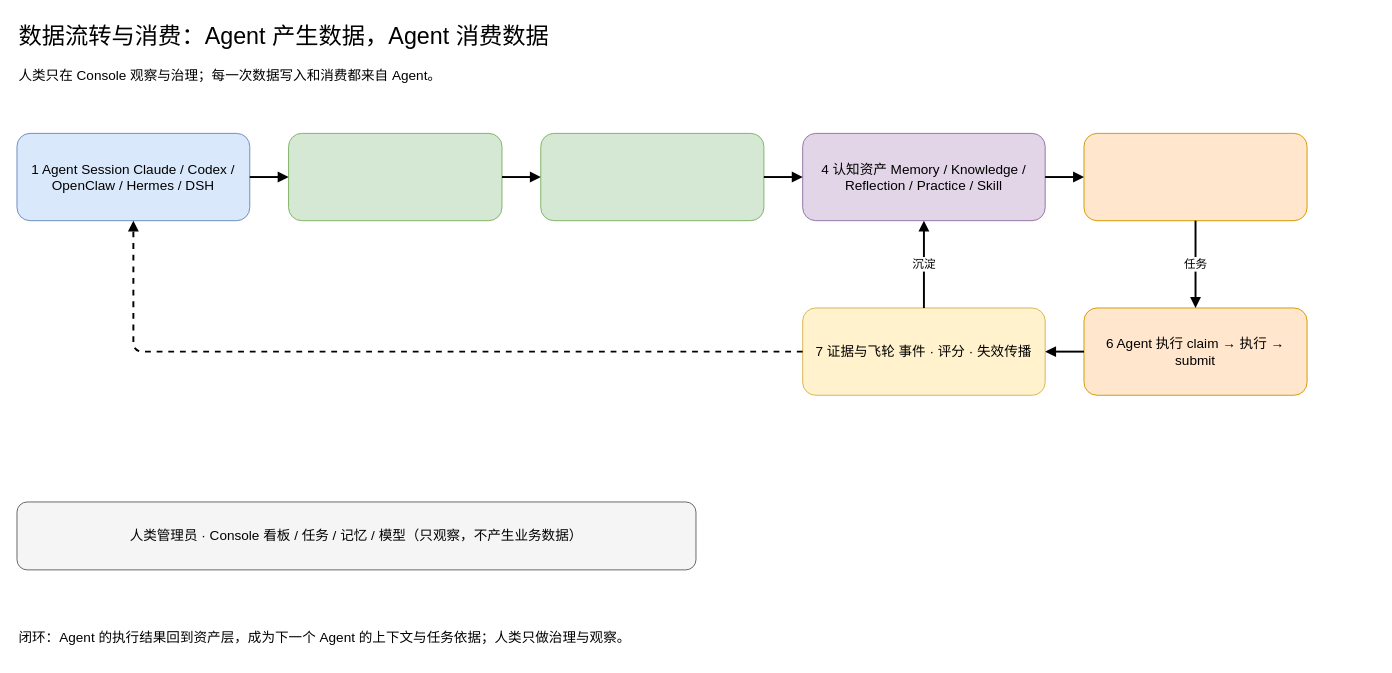
The diagram is 1392 pixels wide and 673 high, and some of its shapes have lost their labels. Each missing label, with the centre of its shape:
"2 Session Service 上传 · 去重 · 归属" belongs at [395,176].
"3 Organize Pipeline chunk · 合成 · 写入 · 校准" belongs at [652,176].
"5 Task Engine 生成任务 · 认领 · 租约" belongs at [1195,176].
